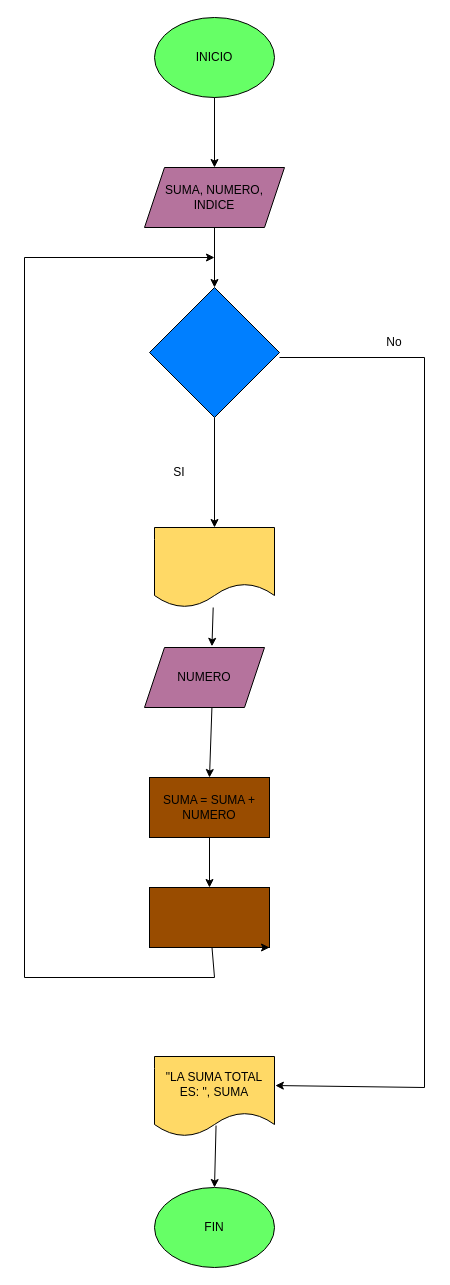
Some shapes in this 450 by 1285 pixel diagram are drawn without their labels. Each missing label, with the box of its shape:
"Ingresa un número: ": (154, 526, 274, 608)
INDICE = INDICE + 1: (148, 886, 270, 948)
¿INDICE < 10?: (148, 286, 280, 418)
